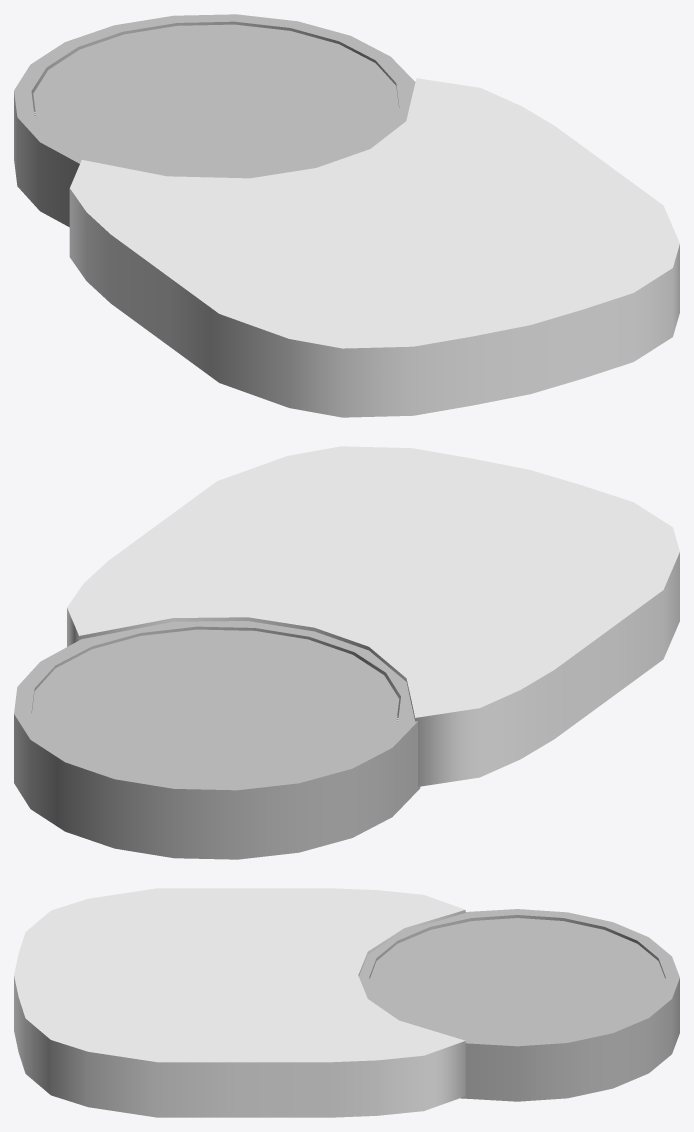
File: Bascula_1.FBX
The picture shows the model from 3 angles, top to bottom: view 1: azimuth 30°, elevation 25°; view 2: azimuth 150°, elevation 25°; view 3: azimuth 270°, elevation 25°; orthographic projection. The views are drawn at different scales.
Parts seen in each view (by area): view 1: Bascula_1, Vidrio_bascula_1, Cromo_bascula_1; view 2: Bascula_1, Vidrio_bascula_1, Cromo_bascula_1; view 3: Bascula_1, Vidrio_bascula_1, Cromo_bascula_1.
Part boxes in pixels (bbox=[...]): Bascula_1: bbox=[34, 78, 679, 417]; Vidrio_bascula_1: bbox=[33, 24, 398, 176]; Cromo_bascula_1: bbox=[14, 14, 415, 227]; Bascula_1: bbox=[67, 446, 679, 786]; Vidrio_bascula_1: bbox=[32, 629, 399, 782]; Cromo_bascula_1: bbox=[14, 621, 420, 859]; Bascula_1: bbox=[14, 888, 465, 1117]; Vidrio_bascula_1: bbox=[369, 918, 665, 1040]; Cromo_bascula_1: bbox=[359, 909, 679, 1101].
Size of the model in its own units: 0.4667 by 0.0731 by 0.7552.
